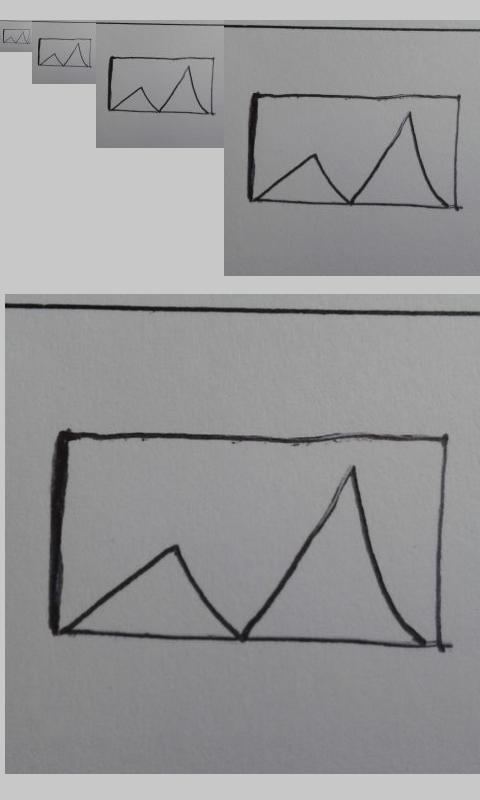image_view: (42, 429, 451, 657), (245, 90, 464, 213), (107, 56, 215, 116), (36, 37, 93, 69), (1, 27, 31, 45)
